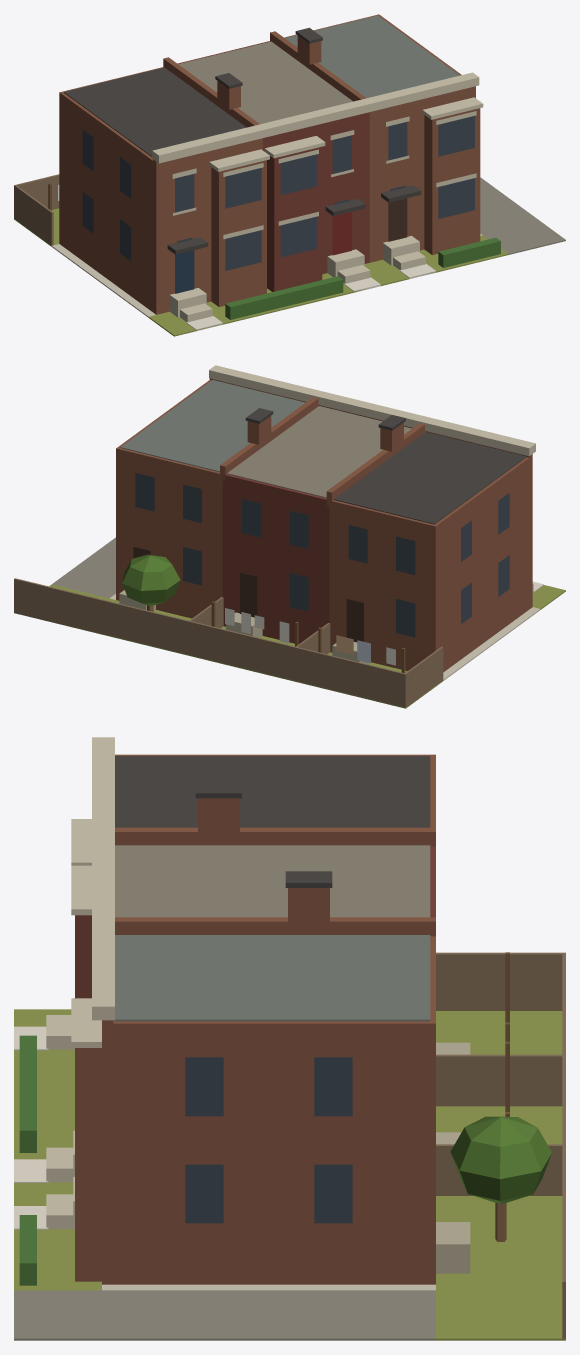
File: terrace_b.glb
The picture shows the model from 3 angles, top to bottom: view 1: azimuth 30°, elevation 25°; view 2: azimuth 150°, elevation 25°; view 3: azimuth 270°, elevation 25°; orthographic projection. The views are drawn at different scales.
Visible parts, largest first — view 1: terrace_b; view 2: terrace_b; view 3: terrace_b.
Boxes of the visible parts, x1,y1,x2,y2 form: terrace_b: [14, 14, 565, 336]; terrace_b: [14, 365, 565, 708]; terrace_b: [14, 737, 565, 1340].
Size of the model in its own units: 24 by 10.87 by 17.
